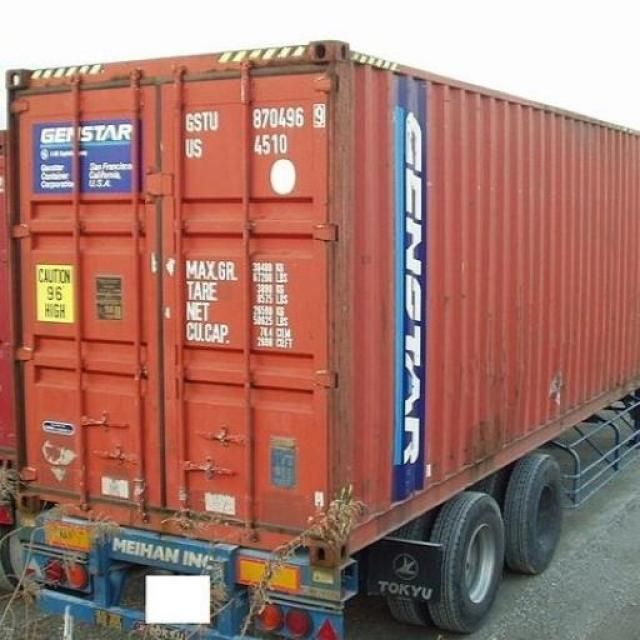ISO: (252, 136, 290, 156)
container_number: (190, 106, 328, 130)
